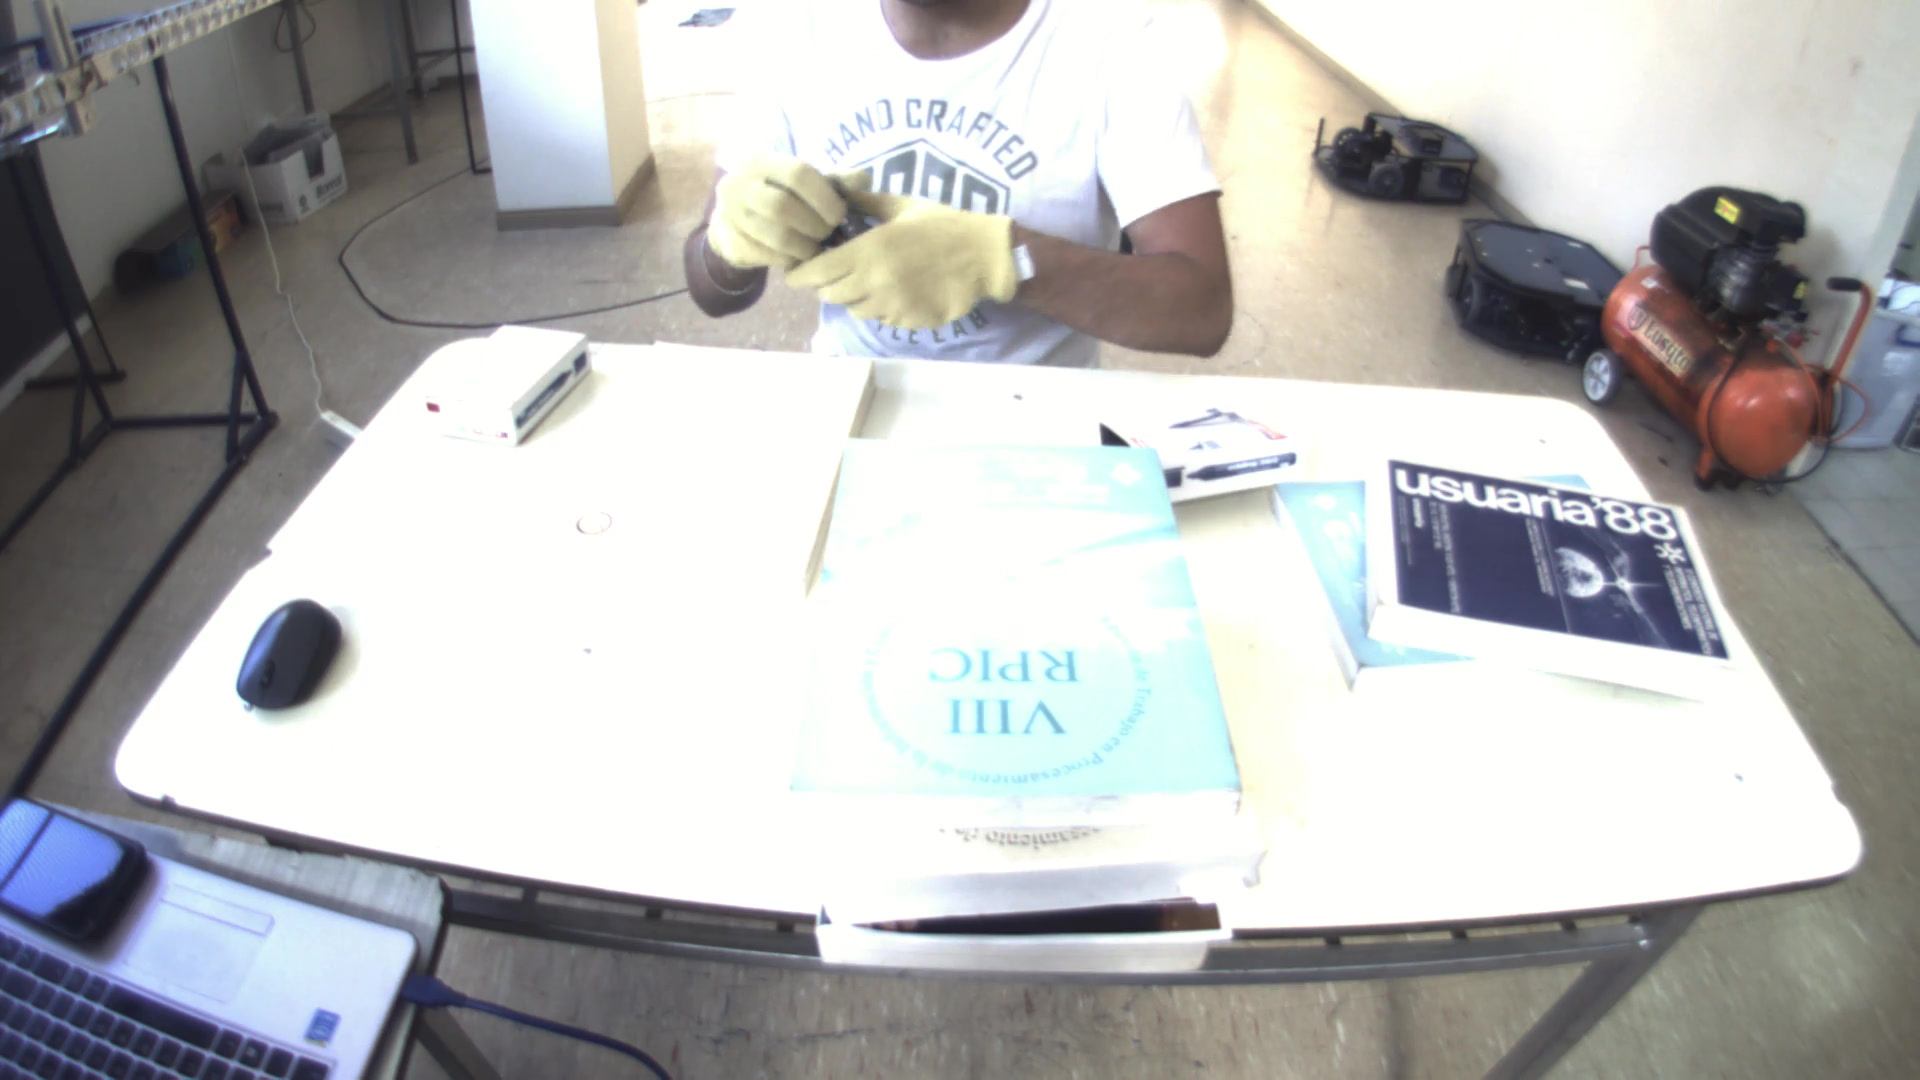hand: (793, 187, 1018, 342), (695, 142, 844, 265)
